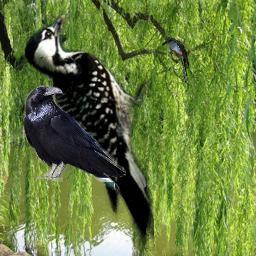Crow: (23, 85, 126, 190)
Cuckoo: (162, 37, 190, 83)
Woodpecker: (22, 9, 154, 252)
